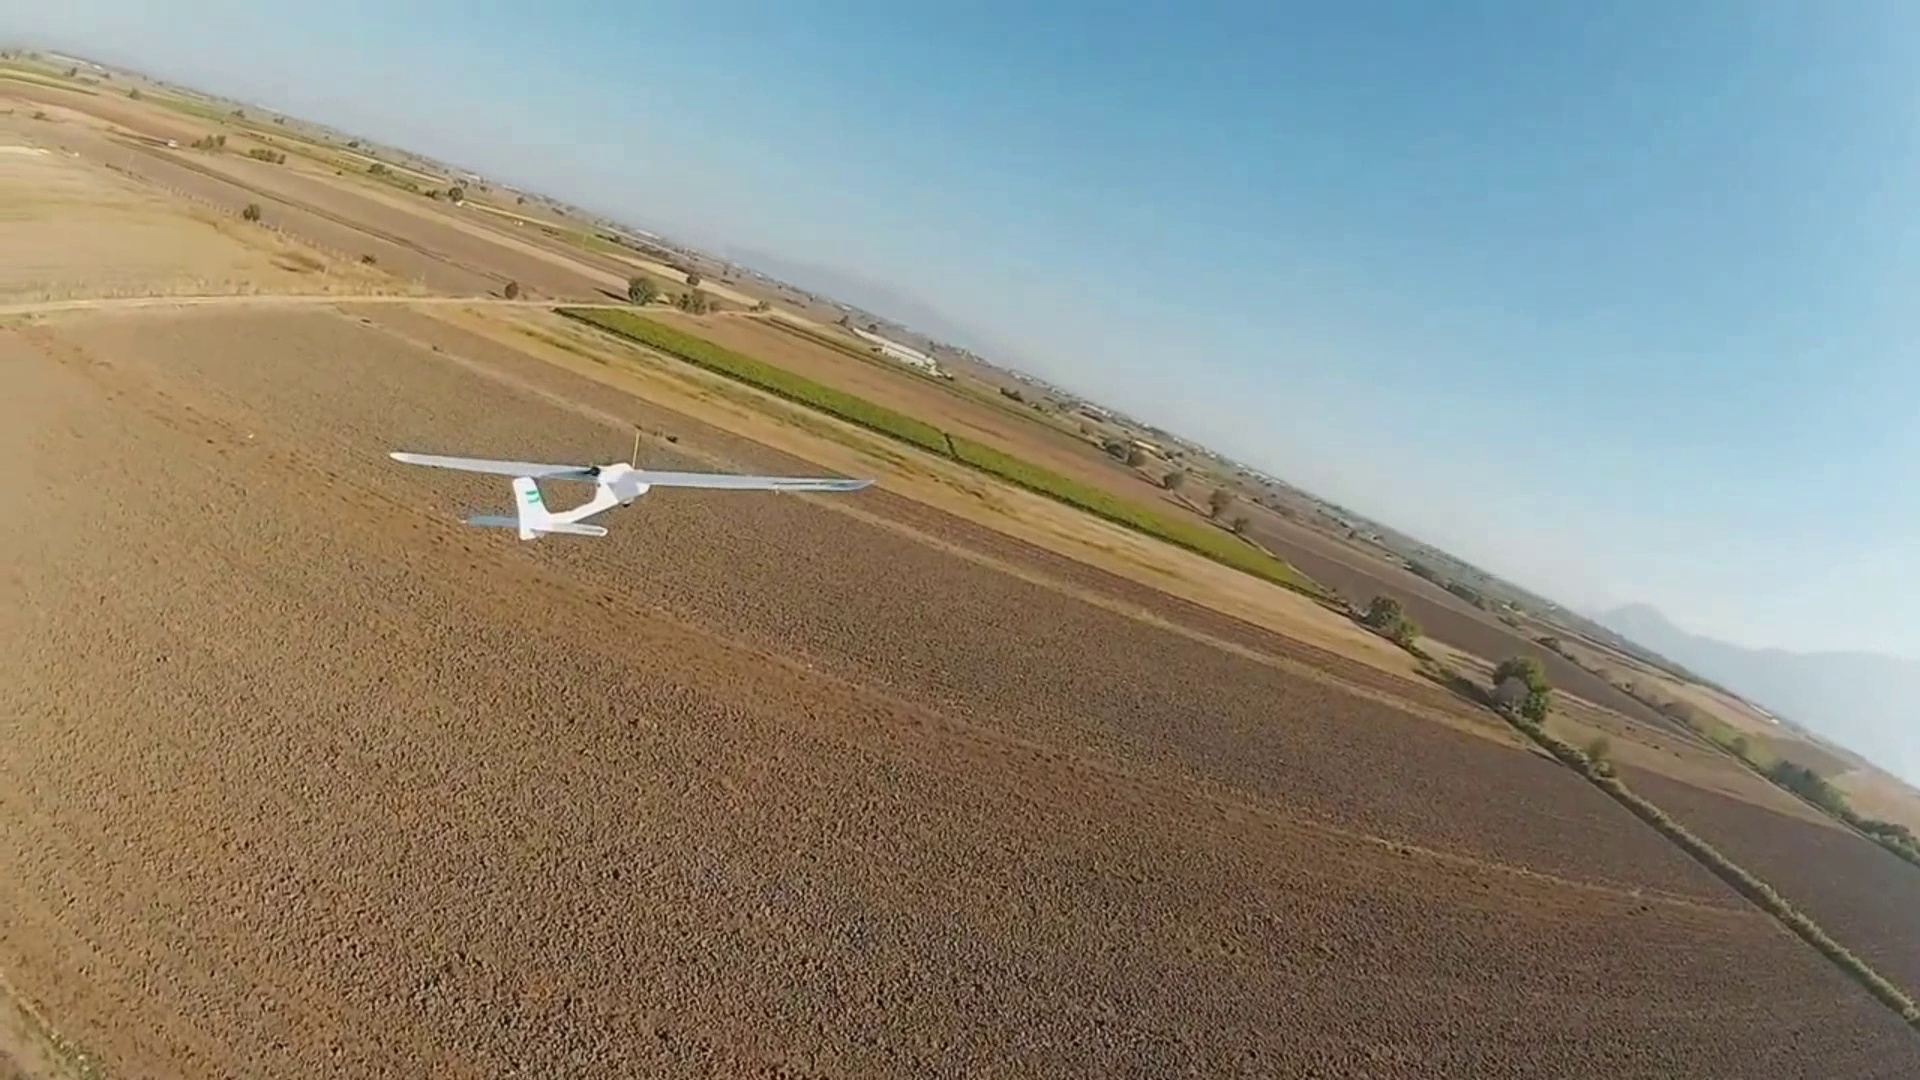airplane: (388, 444, 870, 545), (390, 448, 651, 542)
